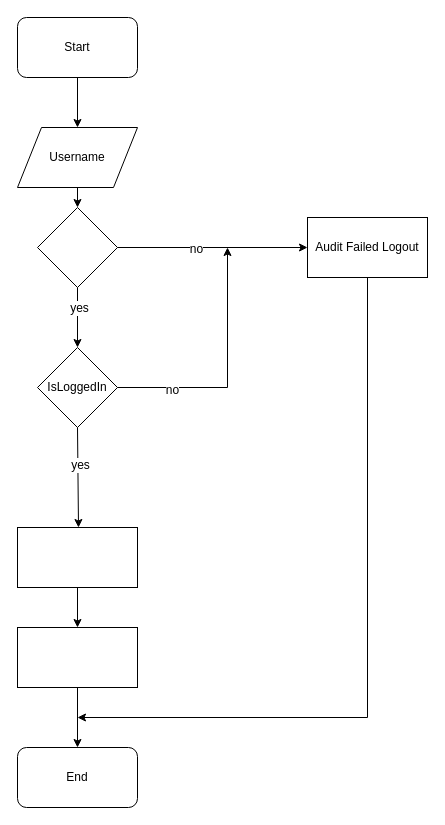
Some shapes in this 445 by 825 pixel diagram are drawn without their labels. Here are the shapes that lost their labels. From the top down, the centre of each, then its label:
point (77, 247): User Exists
point (77, 557): Logout
point (77, 657): Audit Logout
